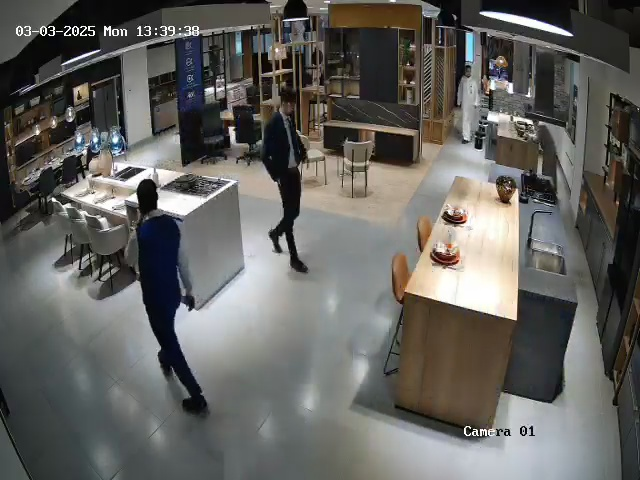employee: (120, 178, 209, 415), (261, 91, 310, 273)
male: (456, 63, 481, 144)
